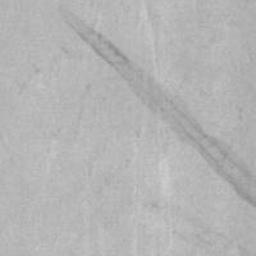Water spot: (56, 5, 256, 210), (150, 195, 256, 256)
